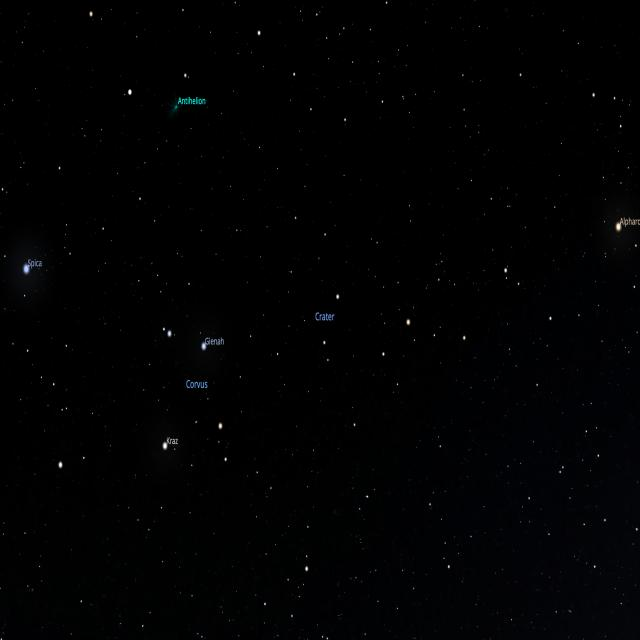Crater: (247, 210, 387, 434)
